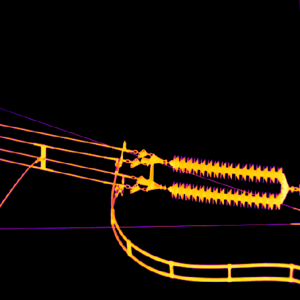insulator: (166, 153, 285, 209)
